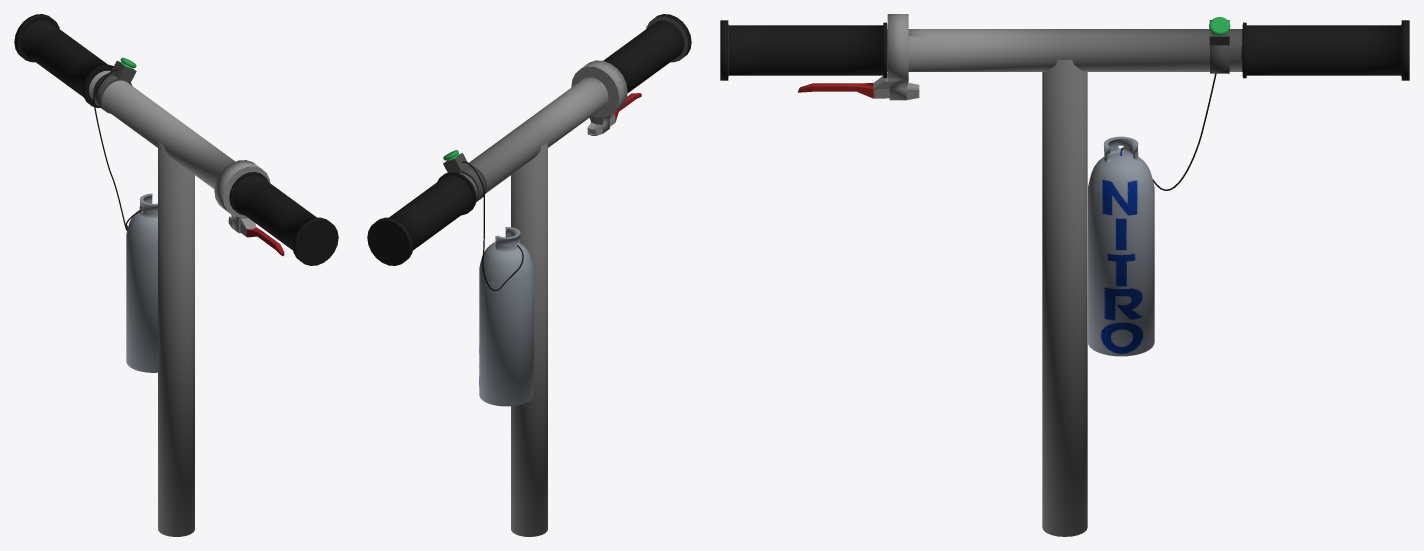
The model's file is Stuur.fbx.
3 renders of one model, left to right at view 1: azimuth 30°, elevation 25°; view 2: azimuth 150°, elevation 25°; view 3: azimuth 270°, elevation 25°, orthographic. The views are drawn at different scales.
Visible parts, largest first — view 1: Stuur, Cylinder, Cylinder.002, Cylinder.006, Cylinder.003; view 2: Stuur, Cylinder, Cylinder.002, Cylinder.006, Cylinder.003; view 3: Stuur, Cylinder, Cylinder.002, Cylinder.006, Cylinder.003.
Boxes of the visible parts, bbox=[...] form: Stuur: bbox=[14, 14, 338, 265]; Cylinder: bbox=[158, 142, 194, 536]; Cylinder.002: bbox=[126, 193, 157, 372]; Cylinder.006: bbox=[214, 160, 284, 255]; Cylinder.003: bbox=[92, 60, 136, 113]; Stuur: bbox=[367, 14, 691, 265]; Cylinder: bbox=[511, 142, 547, 536]; Cylinder.002: bbox=[479, 227, 533, 406]; Cylinder.006: bbox=[571, 60, 641, 135]; Cylinder.003: bbox=[443, 153, 486, 202]; Stuur: bbox=[720, 20, 1409, 80]; Cylinder: bbox=[1042, 60, 1087, 536]; Cylinder.002: bbox=[1088, 136, 1154, 356]; Cylinder.006: bbox=[797, 14, 919, 100]; Cylinder.003: bbox=[1209, 20, 1229, 73].
Bounding box in the file's own units: 88.59 × 722 × 873.
